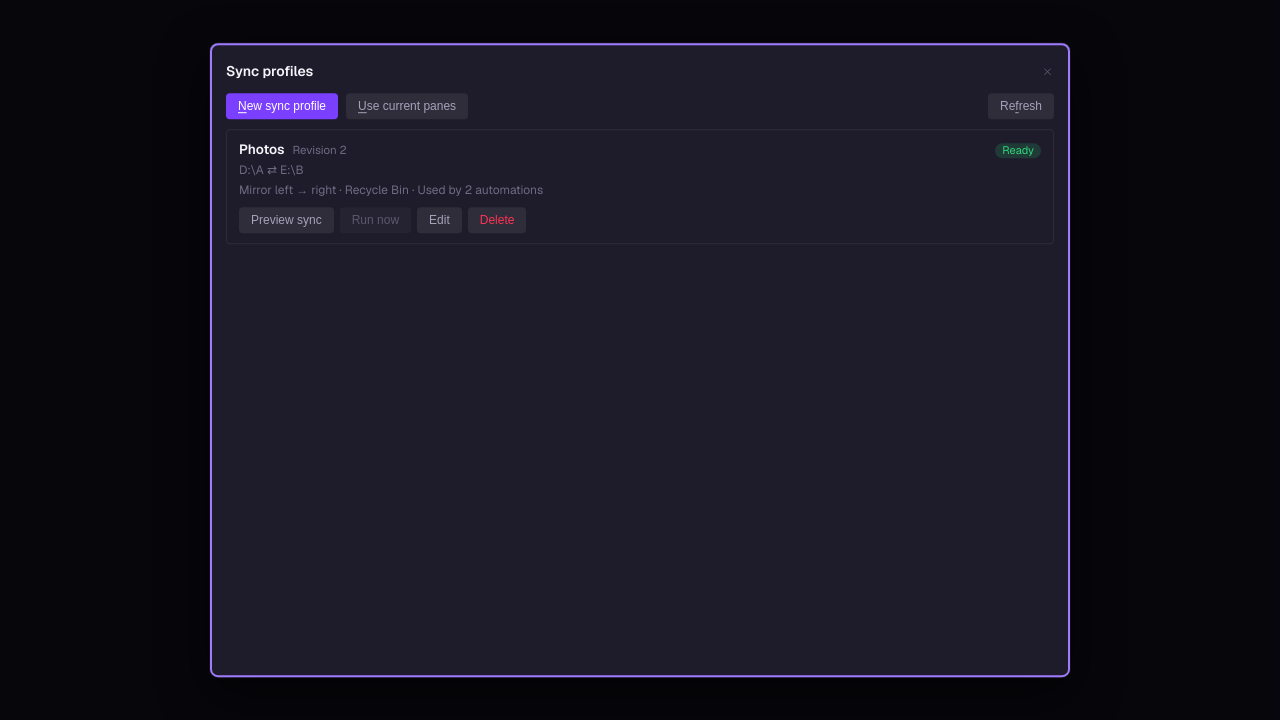
SyncProfilesPage › refuses to delete a used profile and says how many automations use it (SP-9.5)
Expected: the text "Photos" is shown, [239,140,284,158]
Click the button "Delete".
click(497, 220)  # box [468,207,526,233]
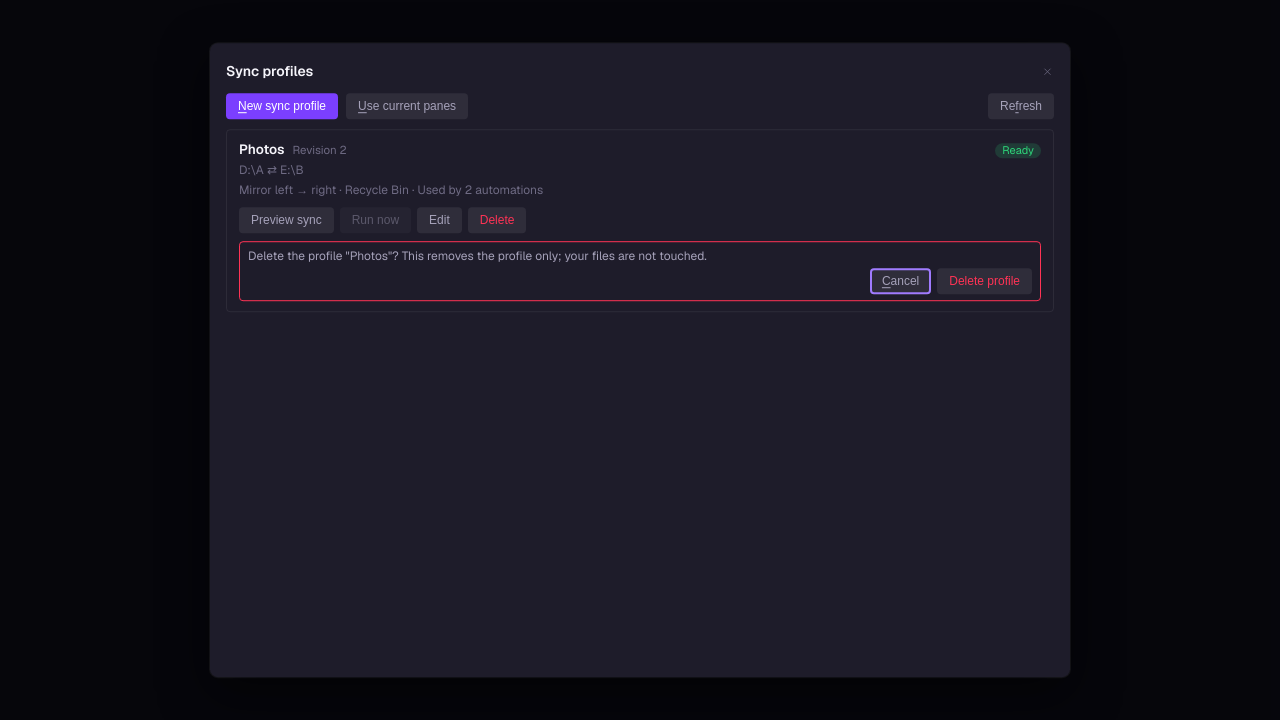
Expected: the dialog named "Confirm delete" is shown, [239,241,1041,301]
Click the button "Delete profile".
click(985, 281)  # box [937,268,1032,294]
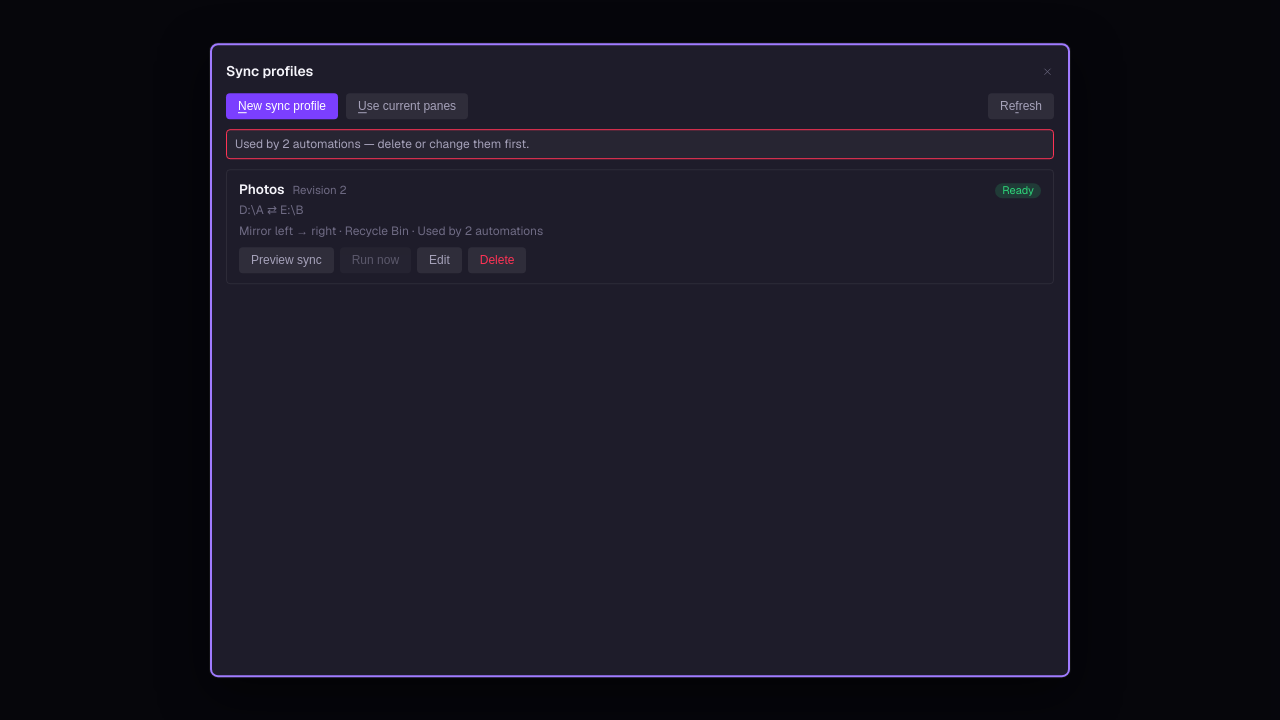
Expected: the message reads "Used by 2 automations — delete or change them first.", [235,136,529,152]
